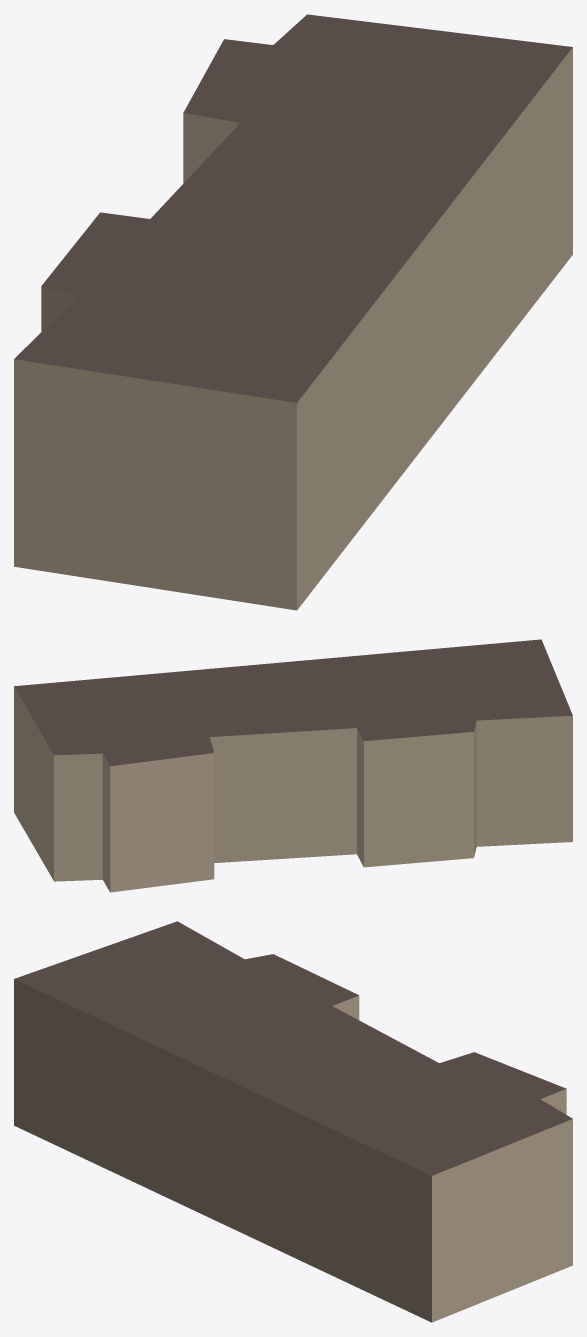
3 views of the same model, one above another, from view 1: azimuth 30°, elevation 25°; view 2: azimuth 150°, elevation 25°; view 3: azimuth 270°, elevation 25° (orthographic). The views are drawn at different scales.
Visible parts, largest first — view 1: HP-w1515076945; view 2: HP-w1515076945; view 3: HP-w1515076945.
Part boxes in pixels (box(x1,y1,x2,y2)): HP-w1515076945: box(14, 14, 572, 610); HP-w1515076945: box(14, 639, 572, 892); HP-w1515076945: box(14, 921, 572, 1322).
Size of the model in its own units: 33.53 by 9 by 31.09.
